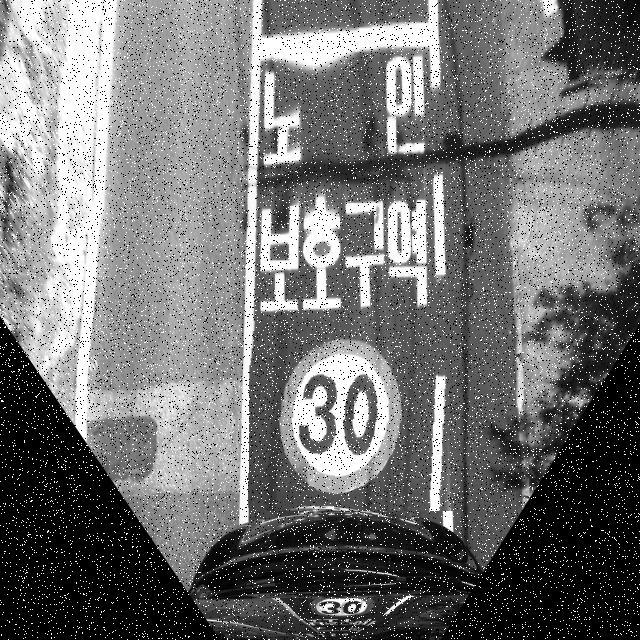30limit: (249, 322, 461, 511)
